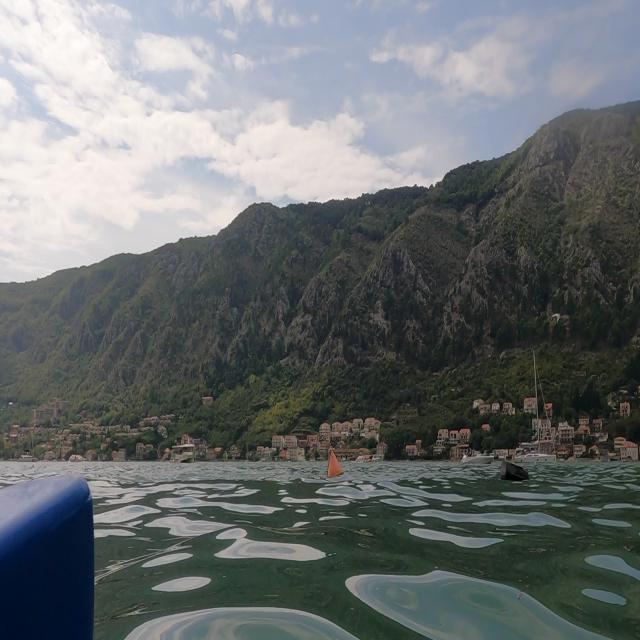boat: (514, 335, 560, 471)
buoy: (318, 443, 349, 487), (496, 457, 536, 489)
